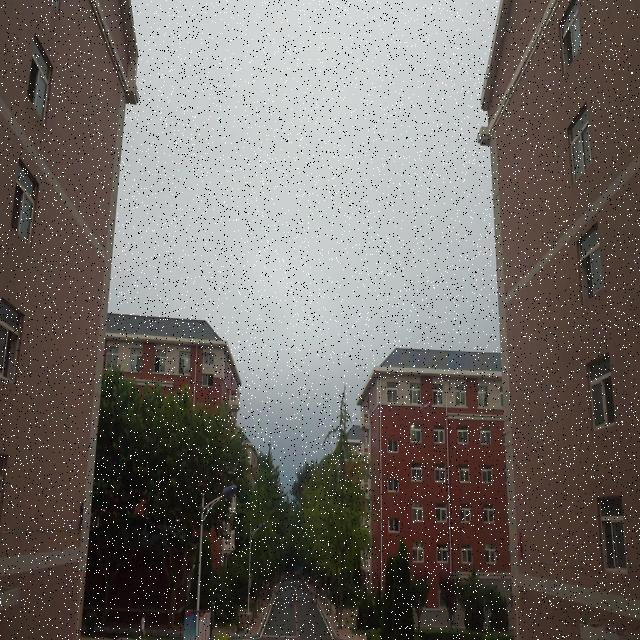UAV: (419, 403, 431, 412)
